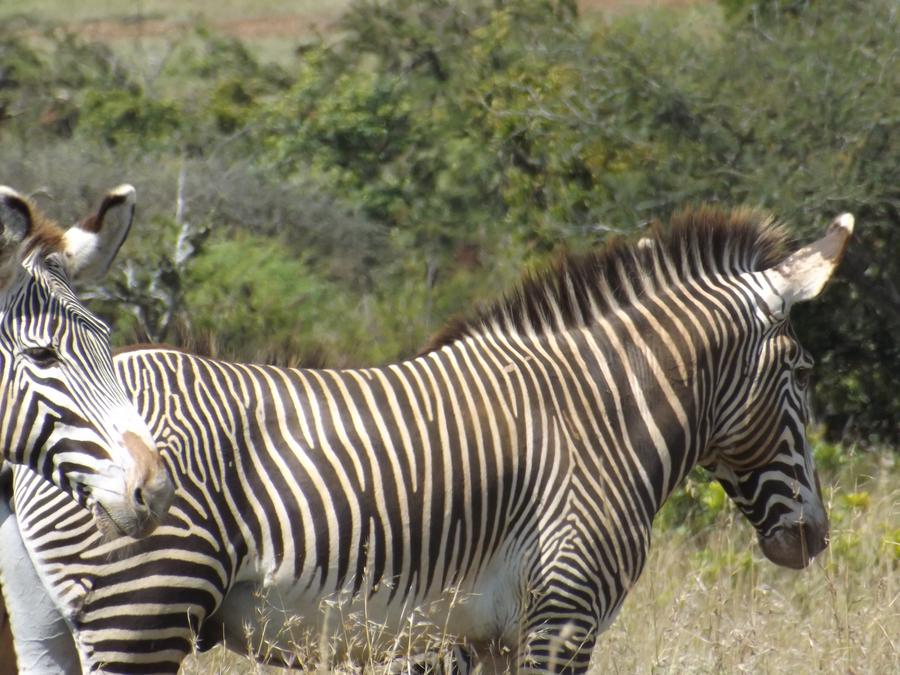zebra_grevys: (121, 305, 628, 632)
